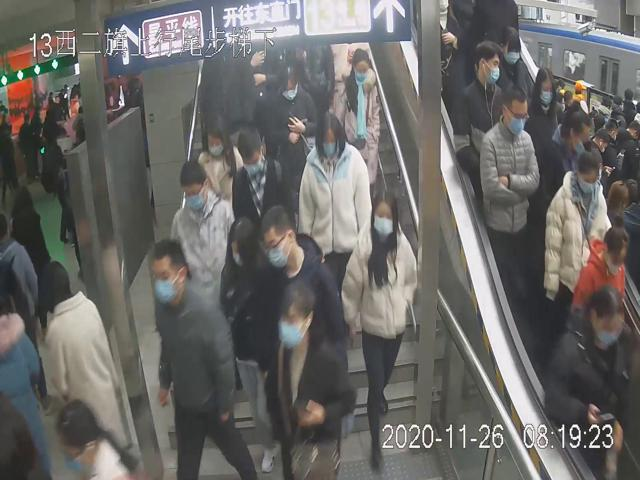person: (150, 236, 256, 480), (343, 188, 416, 470), (272, 279, 354, 480), (259, 202, 343, 378), (222, 212, 277, 468), (297, 112, 372, 275), (543, 147, 612, 316), (482, 83, 541, 278), (165, 160, 235, 304), (451, 38, 513, 188), (332, 47, 381, 197), (232, 123, 289, 215), (264, 65, 317, 155), (194, 112, 241, 200)
